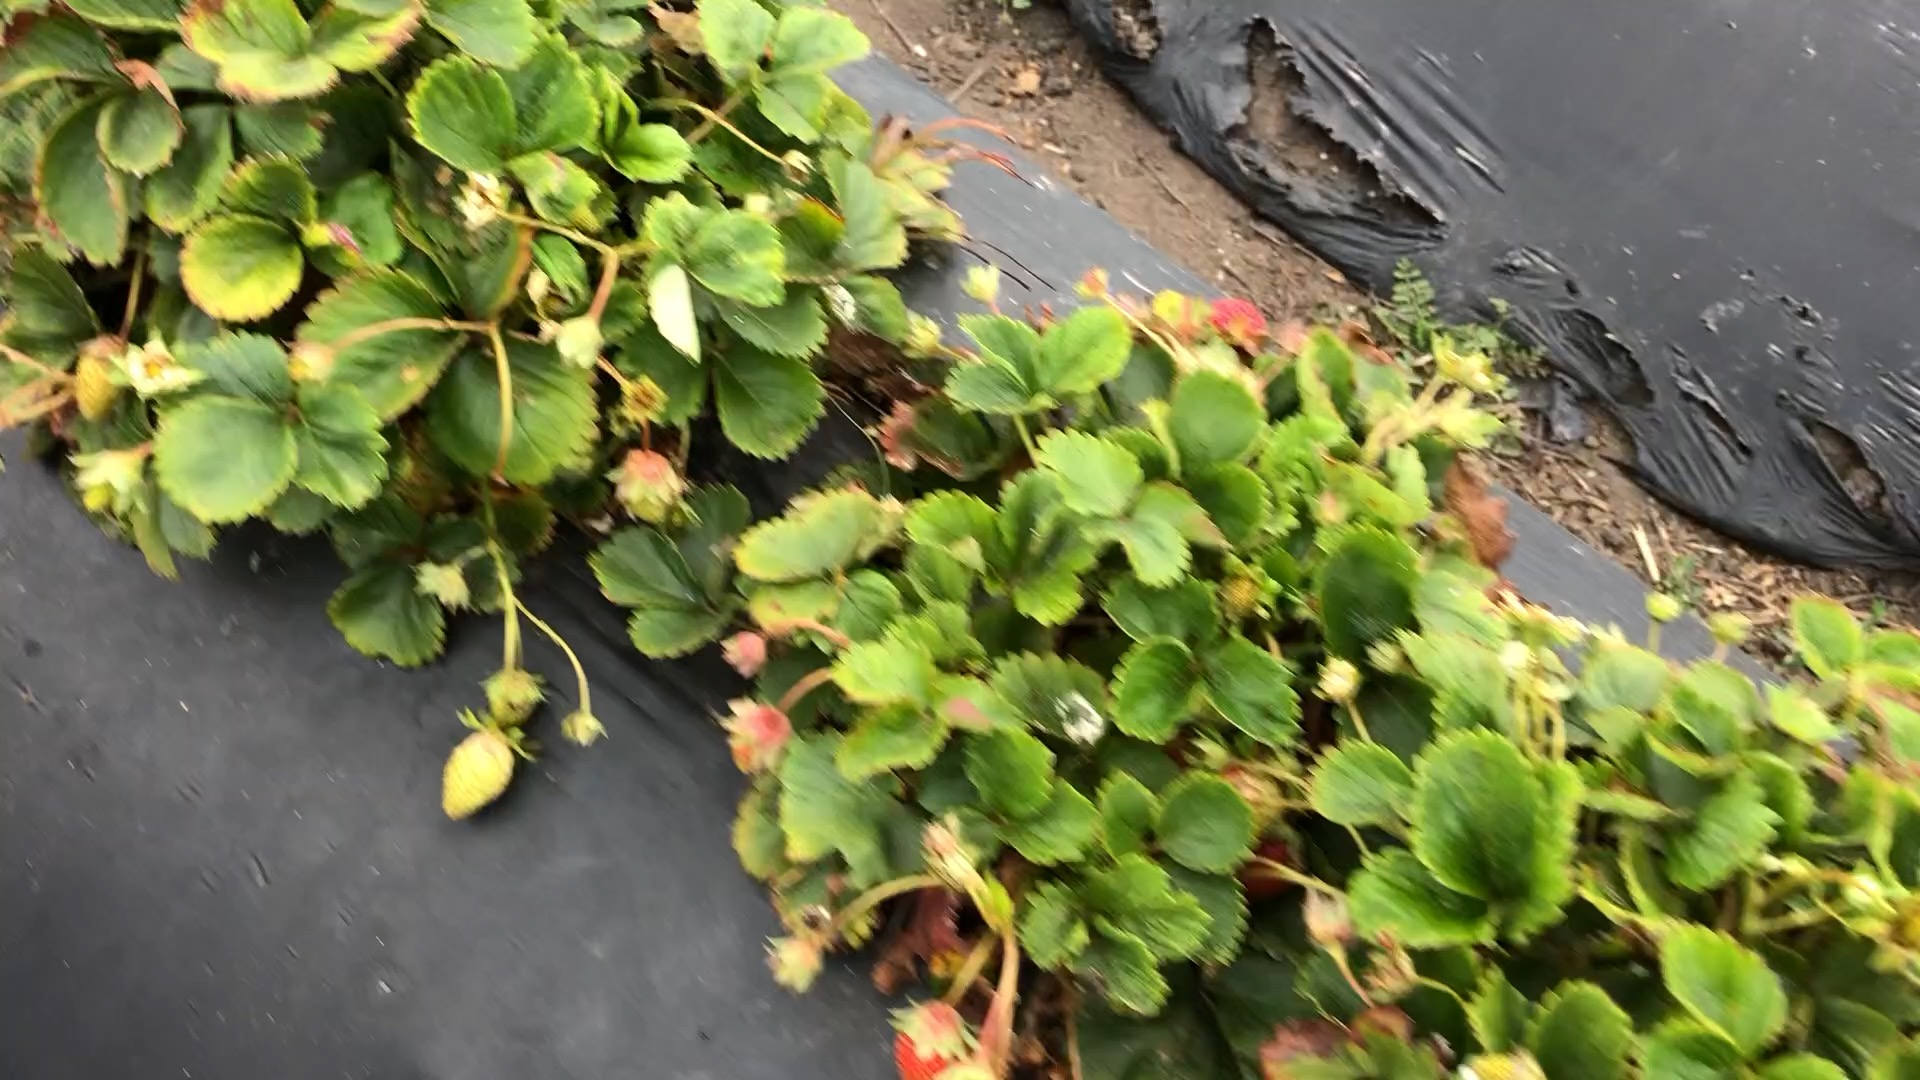ripe_strawberry: (889, 1009, 956, 1080)
unripe_strawberry: (440, 729, 514, 825), (75, 336, 132, 427), (618, 462, 676, 531), (729, 709, 785, 774), (485, 671, 543, 728)
